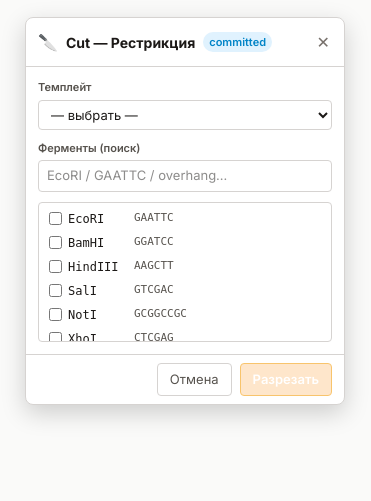
it: K7 — CutOpPopup › preview for enzyme with 0 cuts → 0 cuts, 1 fragment (full length)
Select "no-cut (linear)" in the dropdown with test id "cut-op-template": [185, 114] box [38, 100, 332, 130]
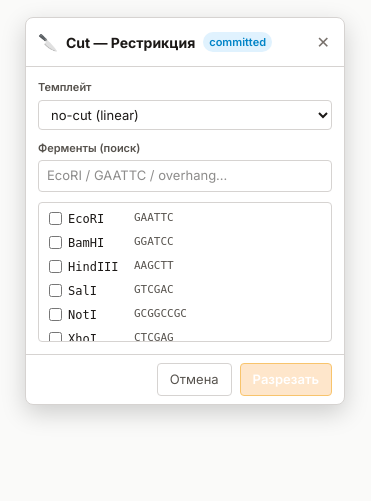
Click the checkbox with test id "cut-op-enzyme-EcoRI": [56, 218] box [49, 212, 62, 225]
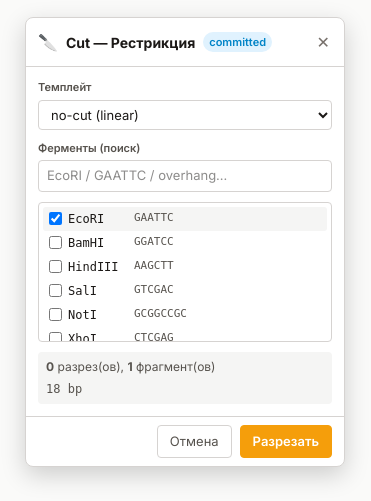
Expected: the text with test id "cut-op-preview-cuts" reads "0", [46, 358, 54, 374]
Expected: the text with test id "cut-op-preview-fragments" reads "1", [127, 358, 133, 374]
